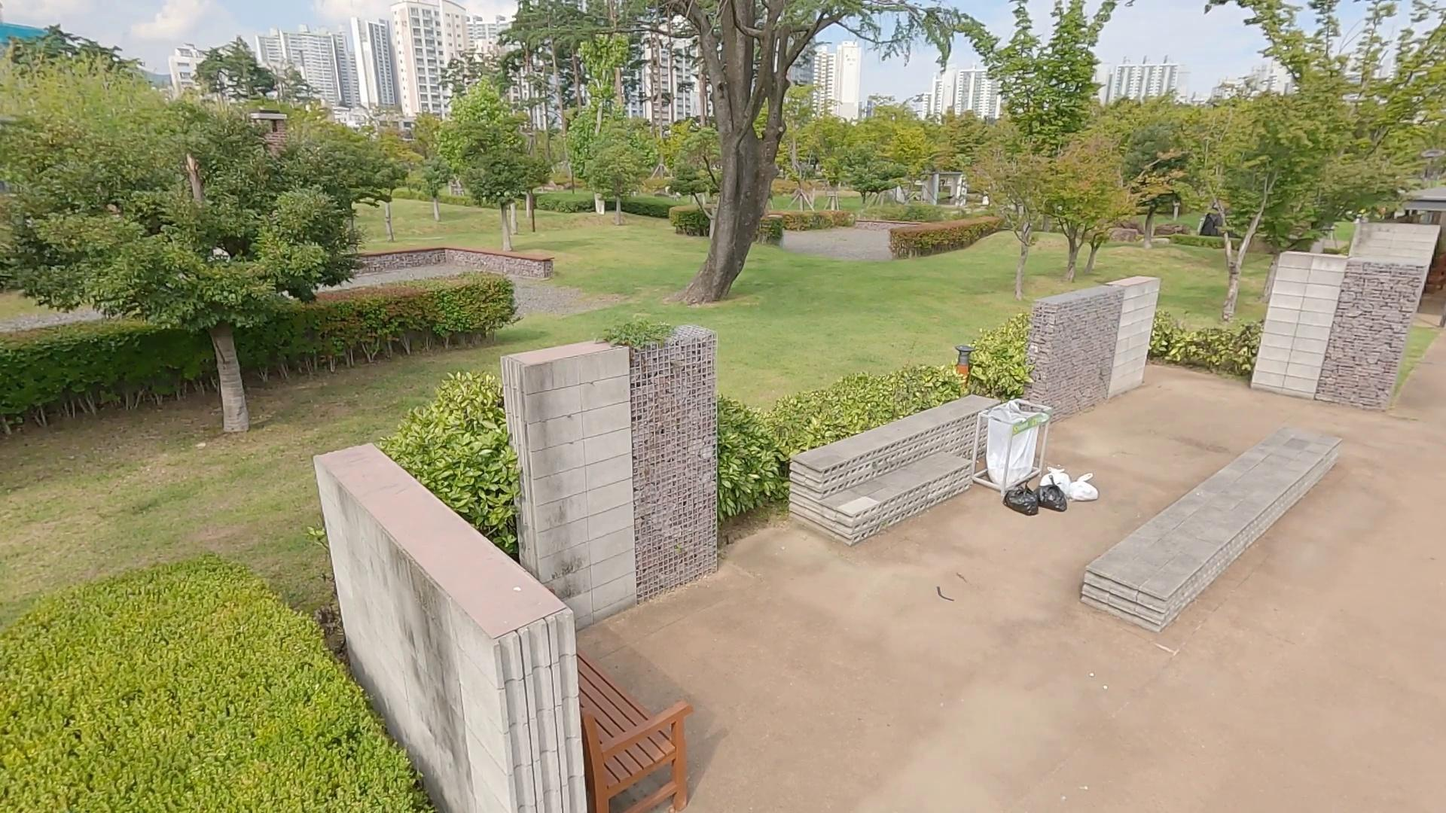trash: (1003, 475, 1038, 519), (1030, 479, 1070, 516), (1061, 475, 1100, 507), (1037, 461, 1071, 492)
